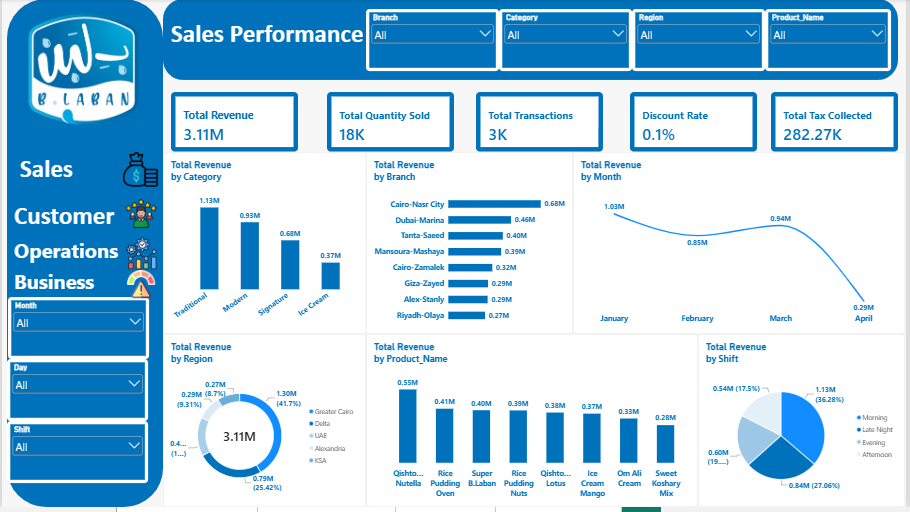

What the dashboard file says about the page in this screenshot:
{"tool":"powerbi","page":{"name":"Sales Performance","canvas":[1920,1080],"ordinal":0},"visuals":[{"type":"shape","box":[10.6,0,331.7,1080],"z":0},{"type":"shape","box":[342.3,0,1562.6,172.2],"z":1000},{"type":"image","box":[38.3,21.3,274.3,253],"z":2000},{"type":"cardVisual","fields":{"Data":["KPIs.Total Revenue"]},"box":[359.3,197.7,270,127.6],"z":3000},{"type":"cardVisual","fields":{"Data":["KPIs.Total Quantity Sold"]},"box":[690.9,197.7,270,127.6],"z":4000},{"type":"cardVisual","fields":{"Data":["KPIs.Total Transactions"]},"box":[1007.7,197.7,270,127.6],"z":5000},{"type":"cardVisual","fields":{"Data":["KPIs.Discount Rate %"]},"box":[1335.1,197.7,270,127.6],"z":6000},{"type":"cardVisual","fields":{"Data":["KPIs.Total Tax Collected"]},"box":[1634.9,197.7,270,127.6],"z":7000},{"type":"textbox","box":[359.3,40.4,431.6,91.4],"z":8000},{"type":"clusteredBarChart","fields":{"Category":["datclean.Branch"],"Y":["KPIs.Total Revenue"]},"box":[773.9,325.3,440.1,386.9],"z":9000},{"type":"clusteredColumnChart","fields":{"Category":["datclean.Category"],"Y":["KPIs.Total Revenue"]},"box":[342.3,325.3,431.6,386.9],"z":10000},{"type":"donutChart","fields":{"Category":["datclean.Region"],"Y":["KPIs.Total Revenue"]},"box":[342.3,712.2,431,368],"z":11000},{"type":"lineChart","fields":{"Category":["datclean.Date_Time.Variation.Date Hierarchy.Month"],"Y":["KPIs.Total Revenue"]},"box":[1213.9,325.3,705.8,386.9],"z":12000},{"type":"pieChart","fields":{"Category":["datclean.Shift"],"Y":["KPIs.Total Revenue"]},"box":[1479.7,712.2,440,368],"z":13000},{"type":"columnChart","fields":{"Category":["datclean.Product_Name"],"Y":["KPIs.Total Revenue"]},"box":[773.9,712.2,705.8,367.8],"z":14000},{"type":"textbox","box":[38.3,327.4,163.7,72.3],"z":15000},{"type":"image","box":[236,325.3,116.9,74.4],"z":16000},{"type":"textbox","box":[25.5,427.3,257.2,76.5],"z":17000},{"type":"image","box":[248.7,423.1,93.5,65.9],"z":18000},{"type":"textbox","box":[25.5,503.9,299.8,72.3],"z":19000},{"type":"slicer","fields":{"Values":["datclean.Branch"]},"box":[773.9,21.3,282.8,131.8],"z":20000},{"type":"slicer","fields":{"Values":["datclean.Category"]},"box":[1056.6,21.3,282.8,131.8],"z":21000},{"type":"slicer","fields":{"Values":["datclean.Region"]},"box":[1339.4,21.3,282.8,131.8],"z":22000},{"type":"slicer","fields":{"Values":["datclean.Product_Name"]},"box":[1622.1,21.3,267.9,131.8],"z":23000},{"type":"slicer","fields":{"Values":["datclean.Date_Time.Variation.Date Hierarchy.Month"]},"box":[12.8,633.5,299.8,131.8],"z":24000},{"type":"slicer","fields":{"Values":["datclean.Date_Time.Variation.Date Hierarchy.Day"]},"box":[10.6,765.4,299.8,131.8],"z":25000},{"type":"slicer","fields":{"Values":["datclean.Shift"]},"box":[10.6,897.2,299.8,131.8],"z":26000},{"type":"image","box":[221.1,503.9,148.8,72.3],"z":27000},{"type":"image","box":[231.7,576.1,127.6,59.5],"z":27001},{"type":"textbox","box":[25.5,569.8,225.4,72.3],"z":27002}]}

Visuals, with their boxes in screenshot pixels (x1, y1, x2, y2), scaled from the page's 1920x1080 canvas onto the 910x512 screenshot:
shape: (left=5, top=0, right=162, bottom=511)
shape: (left=162, top=0, right=903, bottom=82)
image: (left=18, top=10, right=148, bottom=130)
cardVisual - KPIs.Total Revenue: (left=170, top=94, right=298, bottom=154)
cardVisual - KPIs.Total Quantity Sold: (left=327, top=94, right=455, bottom=154)
cardVisual - KPIs.Total Transactions: (left=478, top=94, right=606, bottom=154)
cardVisual - KPIs.Discount Rate %: (left=633, top=94, right=761, bottom=154)
cardVisual - KPIs.Total Tax Collected: (left=775, top=94, right=903, bottom=154)
textbox: (left=170, top=19, right=375, bottom=62)
clusteredBarChart - datclean.Branch x KPIs.Total Revenue: (left=367, top=154, right=575, bottom=338)
clusteredColumnChart - datclean.Category x KPIs.Total Revenue: (left=162, top=154, right=367, bottom=338)
donutChart - datclean.Region x KPIs.Total Revenue: (left=162, top=338, right=367, bottom=511)
lineChart - datclean.Date_Time.Variation.Date Hierarchy.Month x KPIs.Total Revenue: (left=575, top=154, right=909, bottom=338)
pieChart - datclean.Shift x KPIs.Total Revenue: (left=701, top=338, right=909, bottom=511)
columnChart - datclean.Product_Name x KPIs.Total Revenue: (left=367, top=338, right=701, bottom=511)
textbox: (left=18, top=155, right=96, bottom=189)
image: (left=112, top=154, right=167, bottom=189)
textbox: (left=12, top=203, right=134, bottom=239)
image: (left=118, top=201, right=162, bottom=232)
textbox: (left=12, top=239, right=154, bottom=273)
slicer - datclean.Branch: (left=367, top=10, right=501, bottom=73)
slicer - datclean.Category: (left=501, top=10, right=635, bottom=73)
slicer - datclean.Region: (left=635, top=10, right=769, bottom=73)
slicer - datclean.Product_Name: (left=769, top=10, right=896, bottom=73)
slicer - datclean.Date_Time.Variation.Date Hierarchy.Month: (left=6, top=300, right=148, bottom=363)
slicer - datclean.Date_Time.Variation.Date Hierarchy.Day: (left=5, top=363, right=147, bottom=425)
slicer - datclean.Shift: (left=5, top=425, right=147, bottom=488)
image: (left=105, top=239, right=175, bottom=273)
image: (left=110, top=273, right=170, bottom=301)
textbox: (left=12, top=270, right=119, bottom=304)
